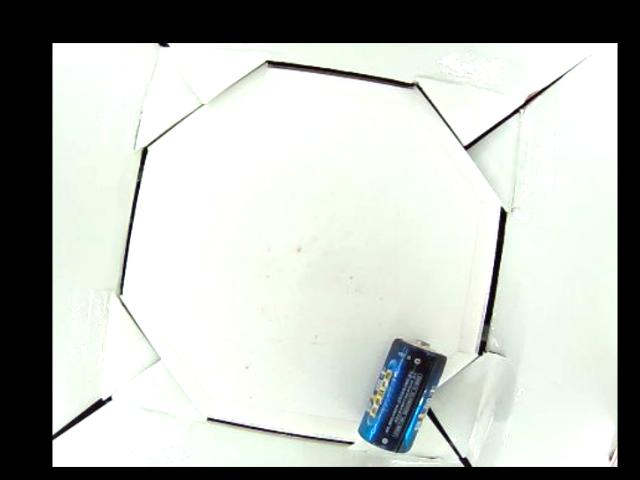Battery: (356, 338, 448, 453)
